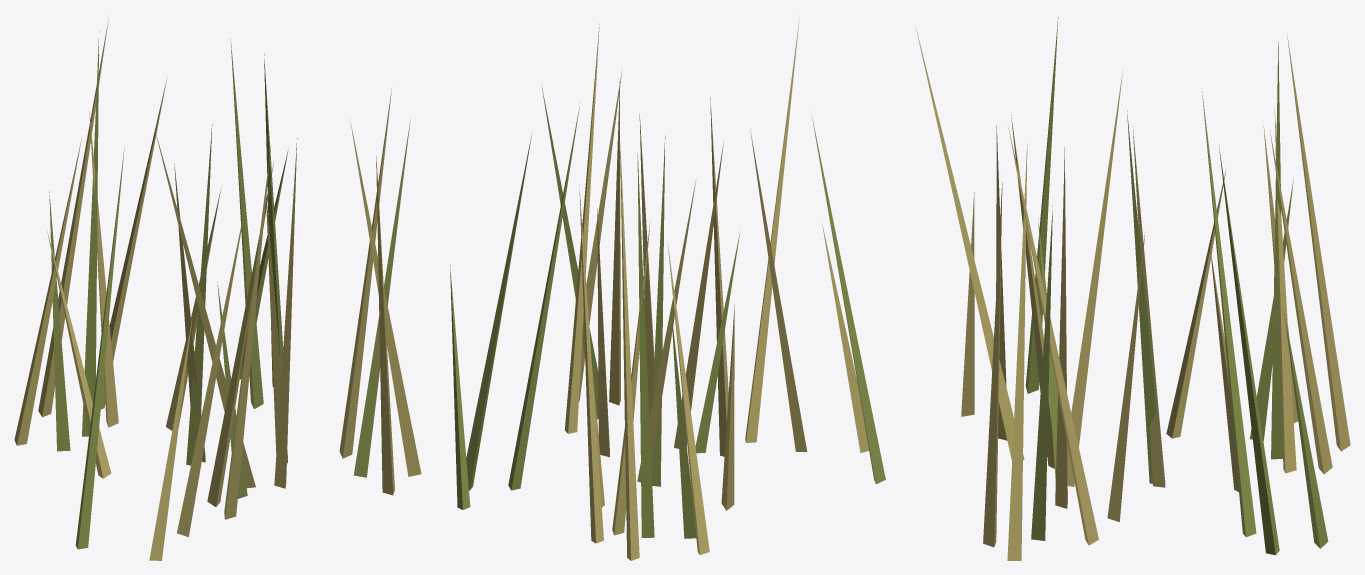
Rendered from vass_2.glb.
3 renders of one model, left to right at view 1: azimuth 30°, elevation 25°; view 2: azimuth 150°, elevation 25°; view 3: azimuth 270°, elevation 25°, orthographic. The views are drawn at different scales.
Visible parts, largest first — view 1: vass_2; view 2: vass_2; view 3: vass_2.
Part boxes in pixels (box(x1,y1,x2,y2)): vass_2: box(14, 17, 421, 560); vass_2: box(450, 17, 885, 560); vass_2: box(915, 17, 1350, 560).
Size of the model in its own units: 2.06 by 2.36 by 2.11.
